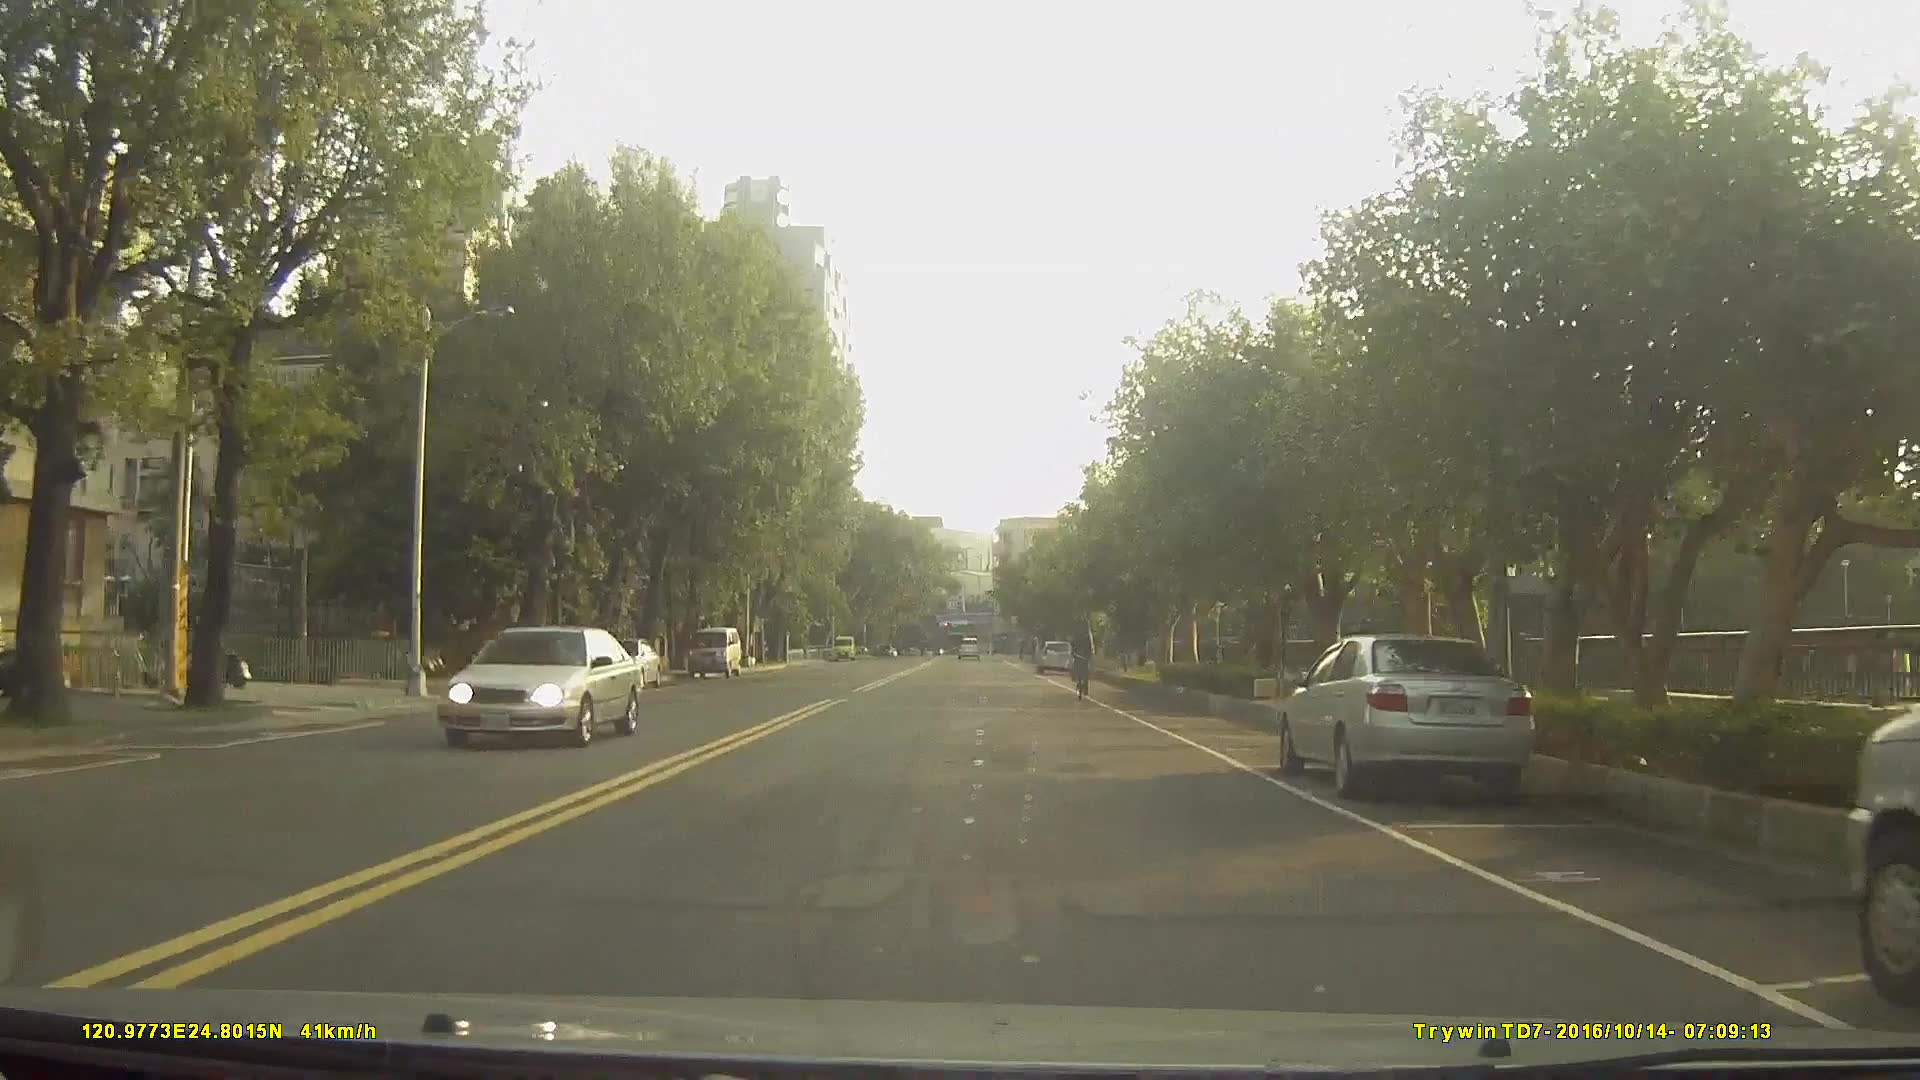rider: (1070, 618, 1097, 701)
vehicle: (1277, 632, 1533, 804), (435, 622, 642, 749), (601, 637, 662, 689), (686, 624, 741, 677), (1036, 636, 1077, 674), (956, 632, 981, 658)
